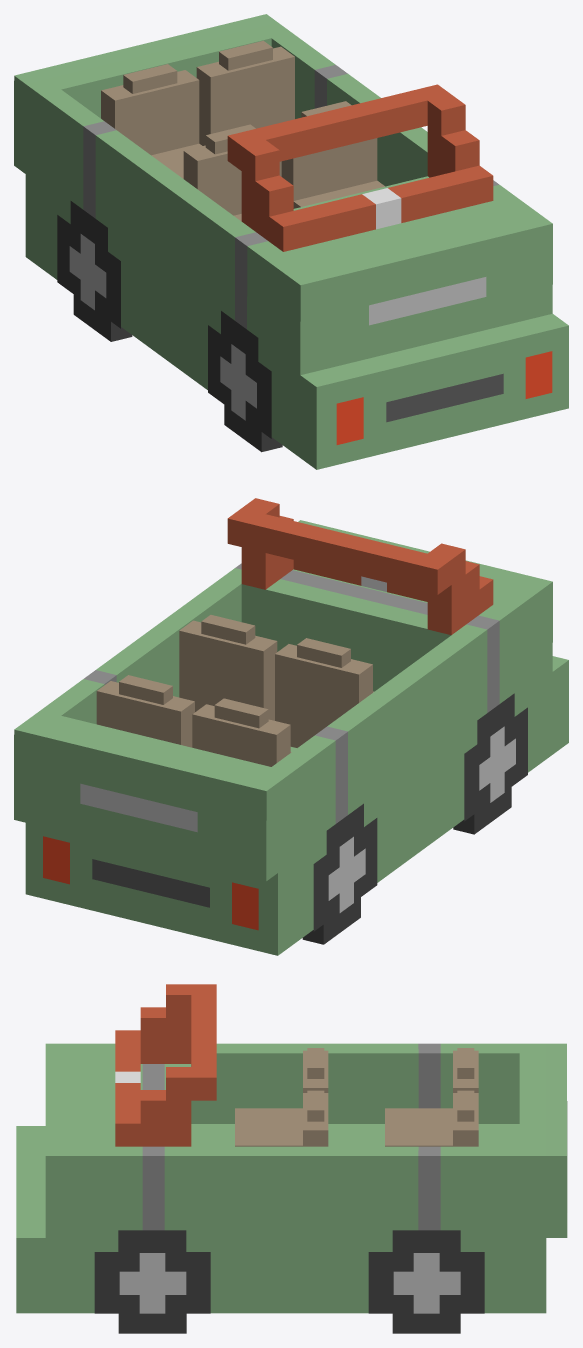
The model's file is Car_1.FBX.
3 views of the same model, one above another, from view 1: azimuth 30°, elevation 25°; view 2: azimuth 150°, elevation 25°; view 3: azimuth 270°, elevation 25° (orthographic). The views are drawn at different scales.
Parts seen in each view (by area): view 1: Car_1; view 2: Car_1; view 3: Car_1.
Boxes of the visible parts, box(x1,y1,x2,y2) form: Car_1: box(14, 14, 568, 469); Car_1: box(14, 498, 568, 955); Car_1: box(16, 984, 567, 1333).
Size of the model in its own units: 14.99 by 15.16 by 30.78.
Materials: 1 (1 with a texture image).
